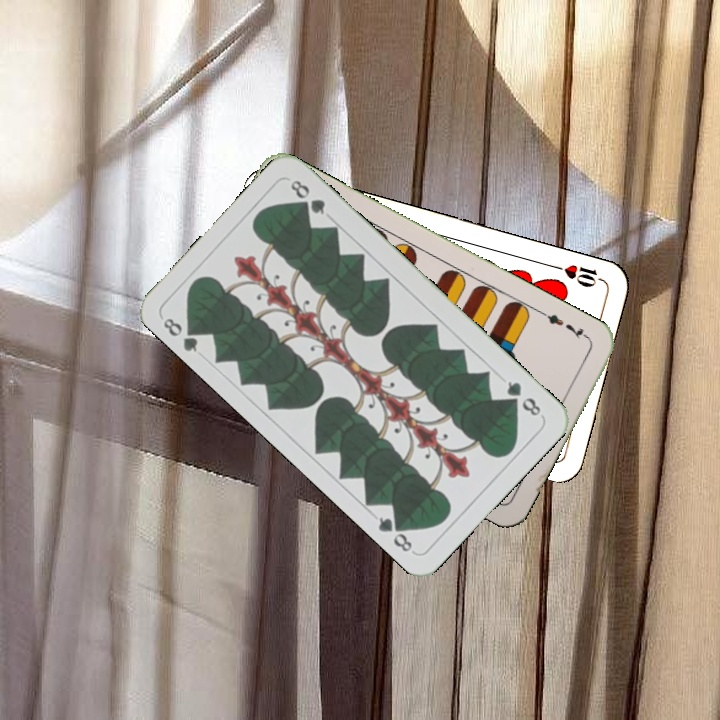E7: (538, 308, 592, 342)
G8: (159, 313, 204, 355), (502, 376, 544, 419)
H10: (548, 260, 607, 290)
